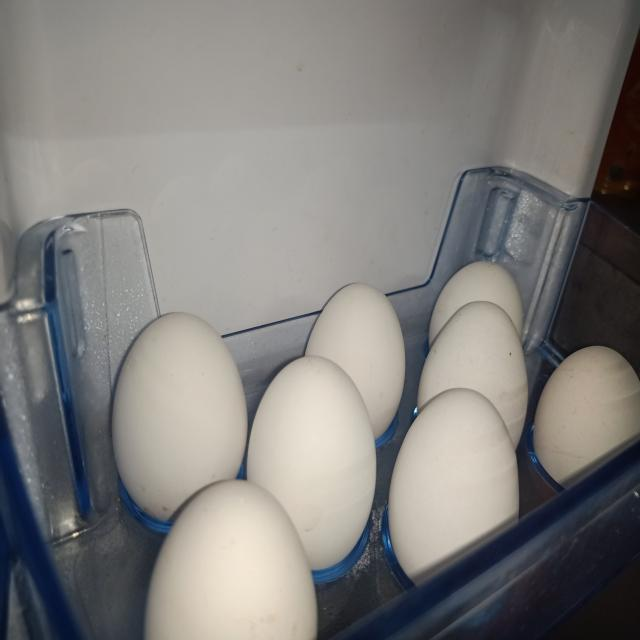Egg: (112, 312, 247, 521), (247, 356, 376, 570), (144, 481, 317, 640), (389, 388, 520, 583), (418, 301, 529, 448), (305, 283, 406, 439), (535, 346, 640, 484), (429, 260, 524, 347)
